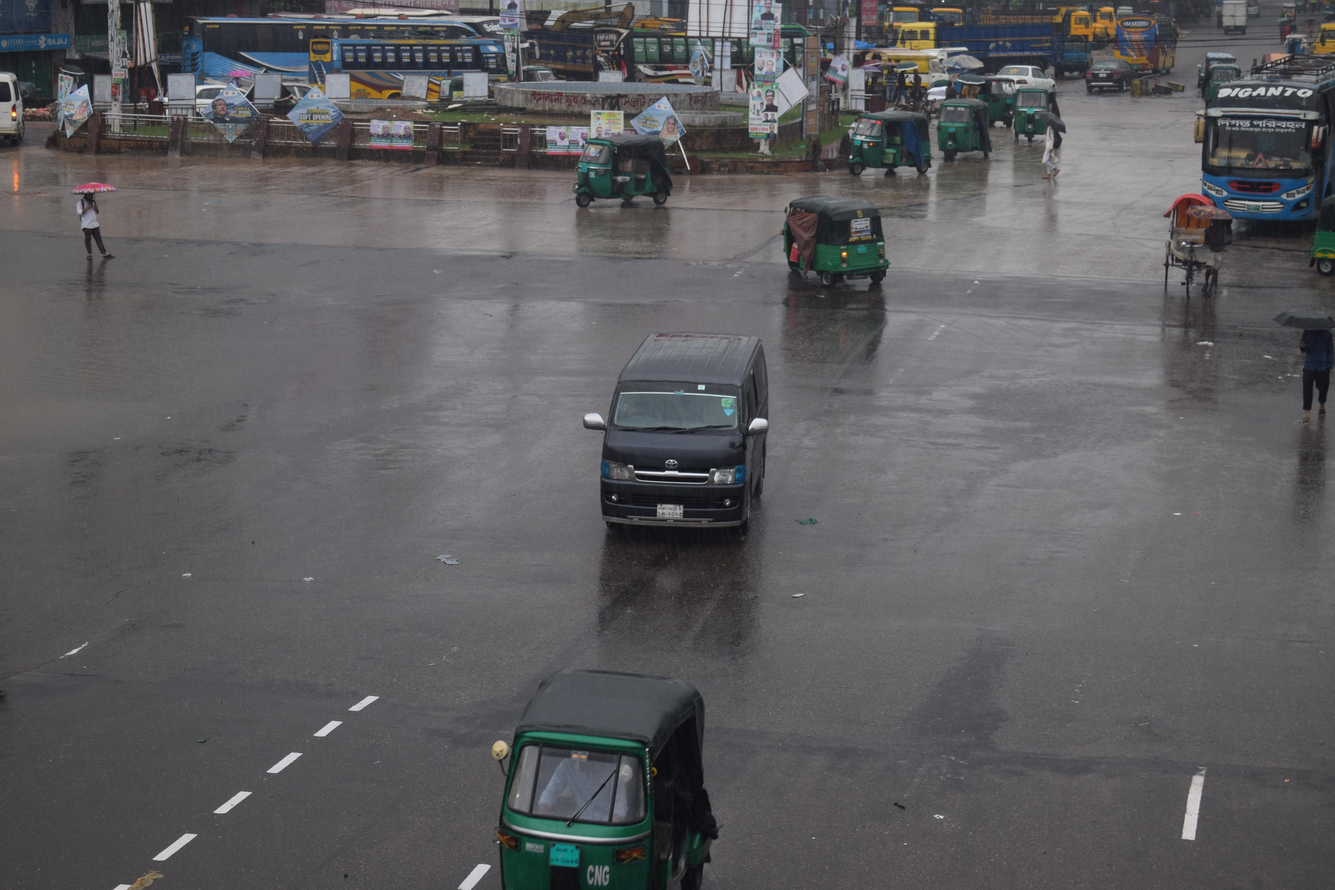Bus: (1169, 47, 1335, 252), (299, 21, 538, 145), (161, 0, 345, 128), (562, 11, 726, 114)
Car: (541, 324, 827, 548), (1142, 168, 1252, 324), (1068, 51, 1149, 111)
Truck: (875, 11, 1071, 93)
